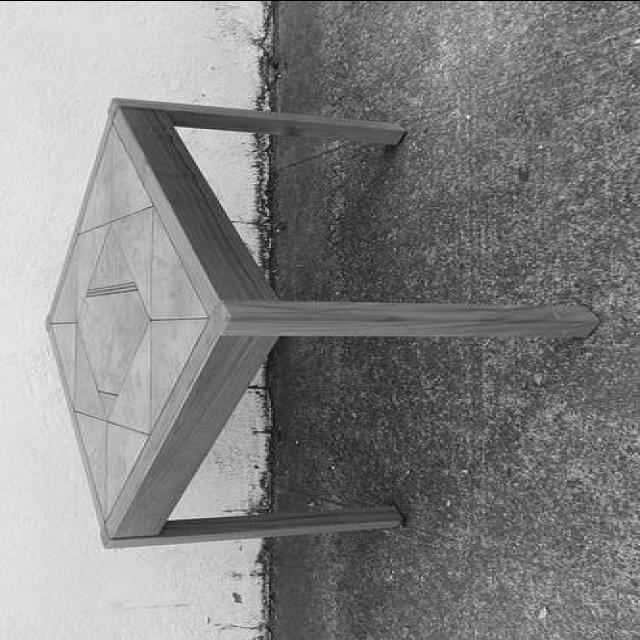table: (45, 95, 595, 548)
